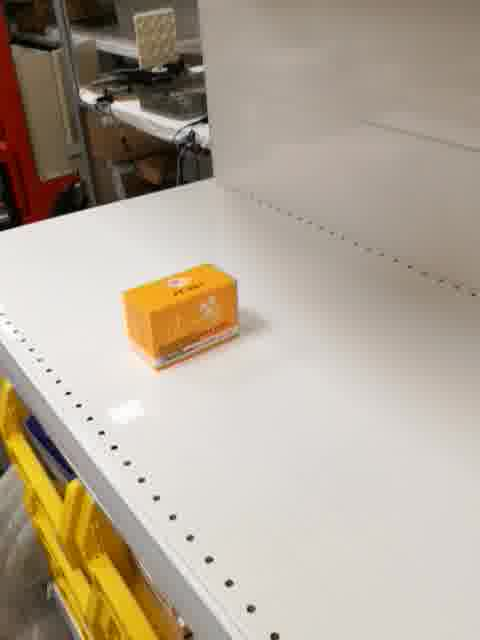jasminetea: (120, 260, 240, 374)
